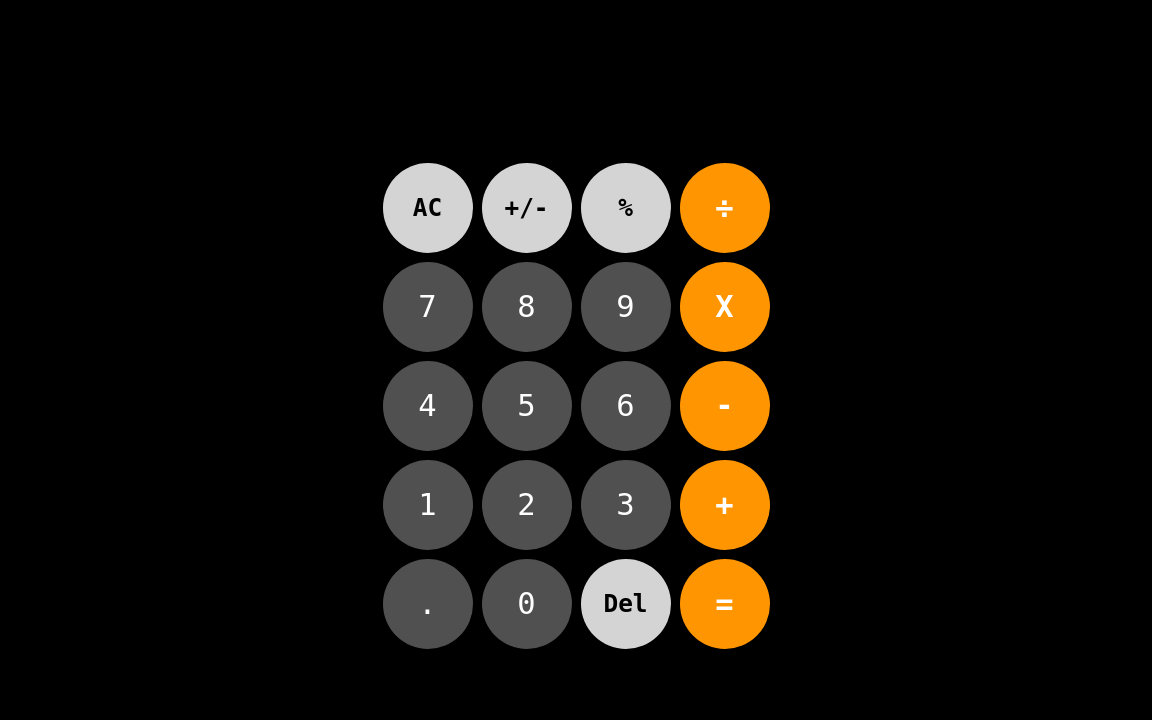
using calculator buttons as inputs › should accurately perform '1+1'
This screenshot has width=1152, height=720.
What coordinates should you click on to do the following:
click the button "1"
I would click on:
 (428, 505)
Its box is [382, 460, 472, 550].
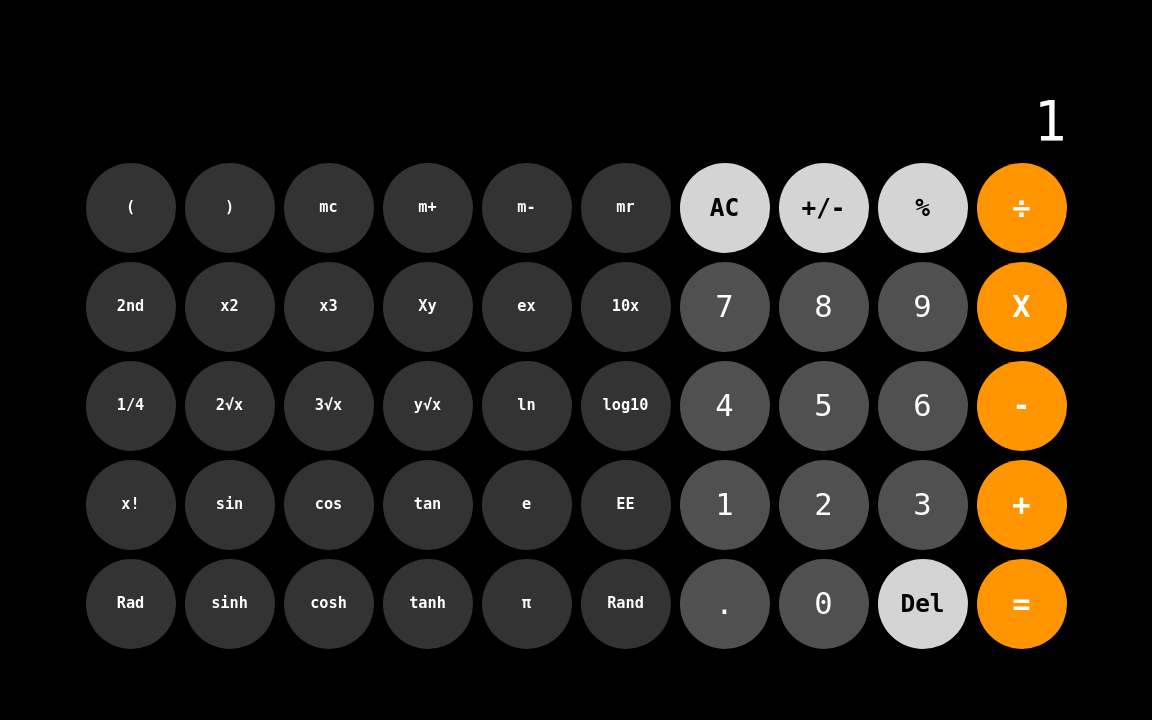
What coordinates should you click on to do the following:
click the button "+"
I would click on:
 (1022, 505)
Its box is [976, 460, 1066, 550].
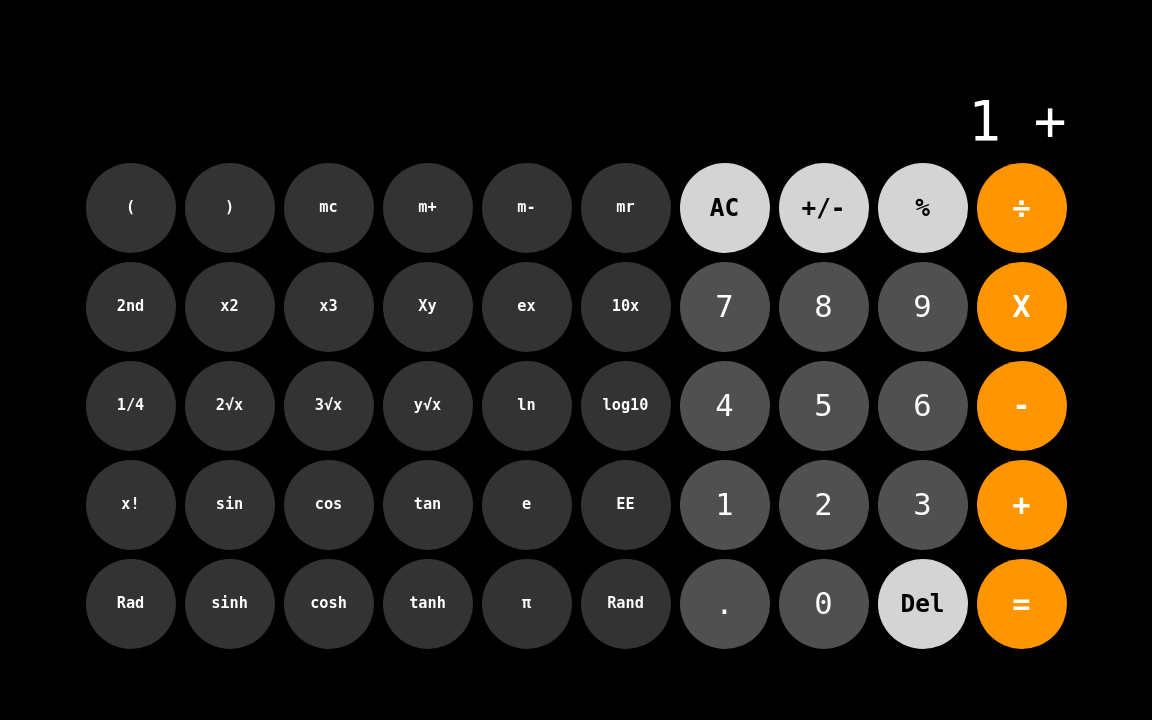
What coordinates should you click on to do the following:
click the button "1"
I would click on:
 (724, 505)
Its box is [680, 460, 770, 550].
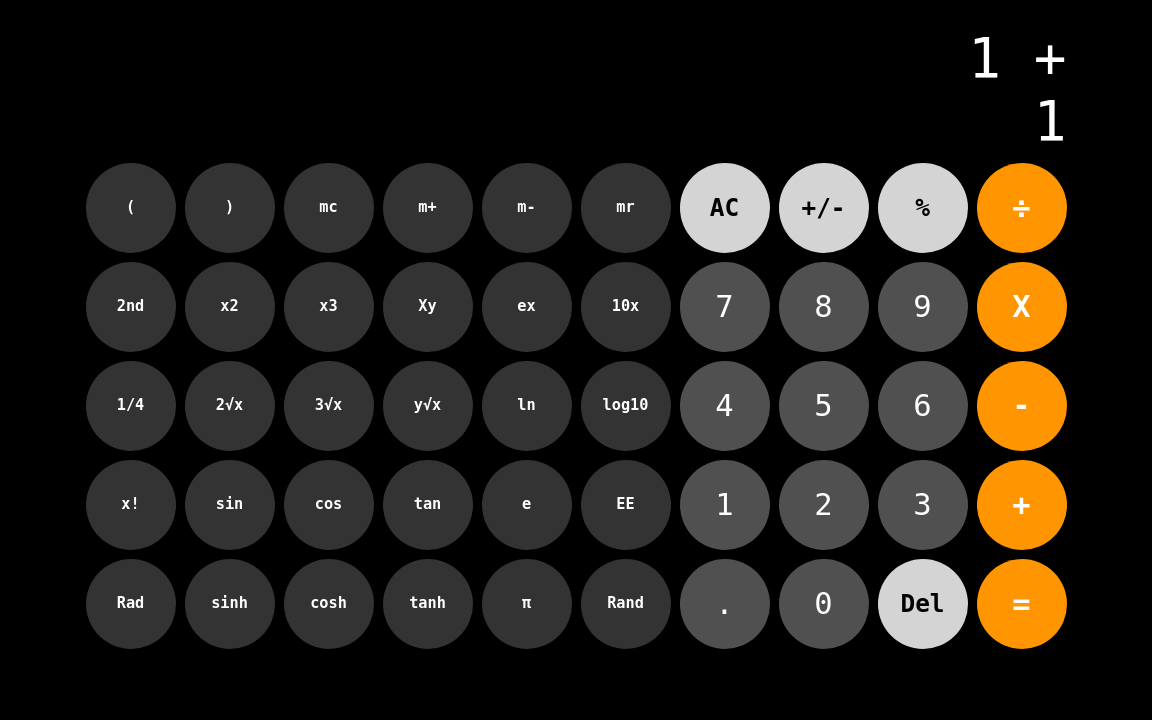
What coordinates should you click on to do the following:
click the button "="
I would click on:
 (1022, 604)
Its box is [976, 559, 1066, 649].
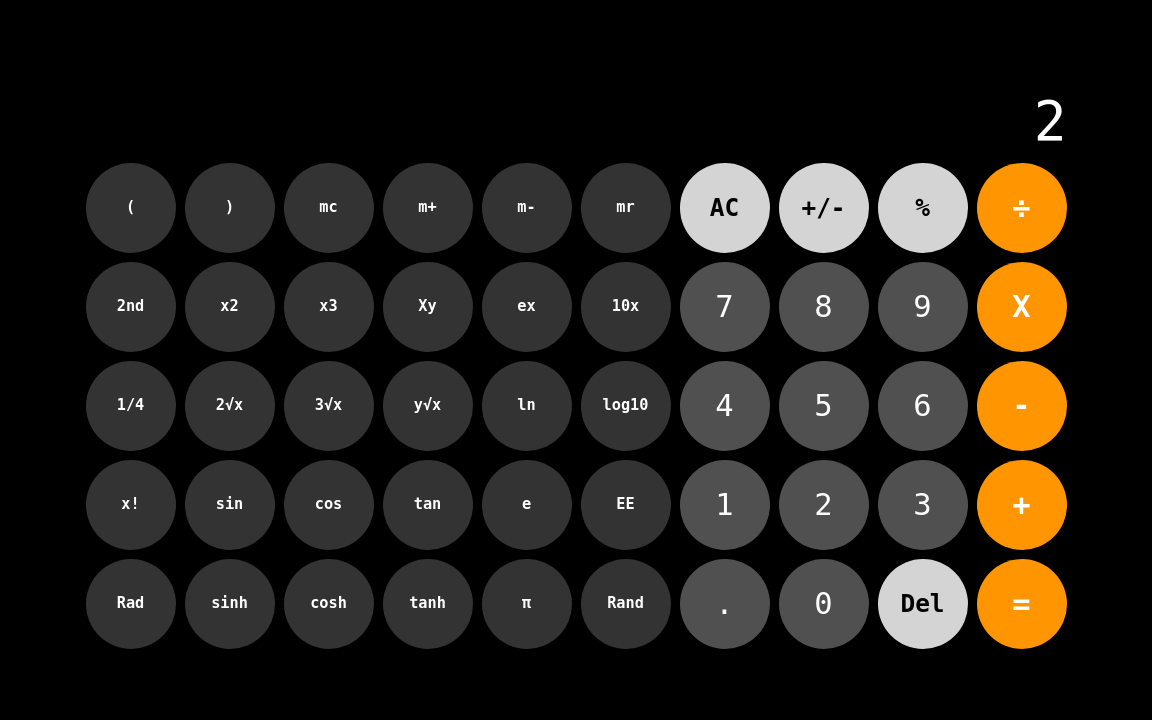
expect the heading with test id "answer-output" reads "2": met, box [1034, 89, 1066, 153]
